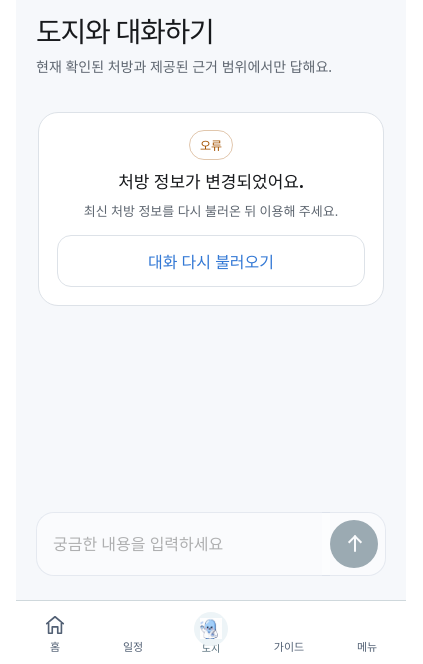
ChatPage › PRESCRIPTION_VERSION_STALE 복구 중 session이 없어도 새 session을 자동 생성하지 않는다
This screenshot has width=423, height=664.
(page scrolled)
Expected: the heading "처방 정보가 변경되었어요." is shown, [118,170,304,193]
Click the button "대화 다시 불러오기" at (211, 261), box [57,235,365,287]
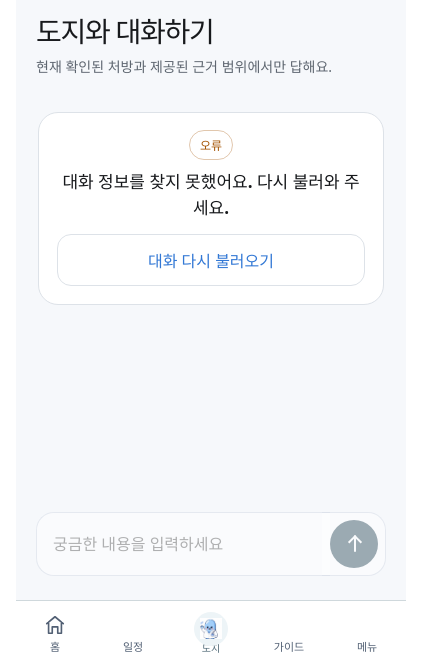
Expected: the heading "대화 정보를 찾지 못했어요. 다시 불러와 주세요." is shown, [57,169,365,220]
